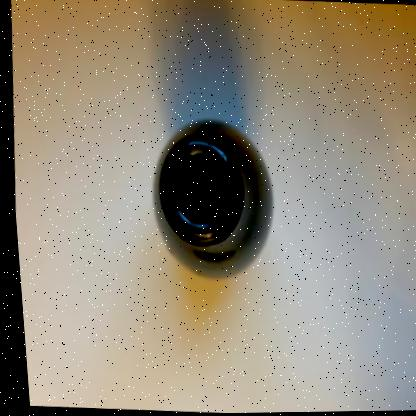Glass: (149, 122, 269, 278)
